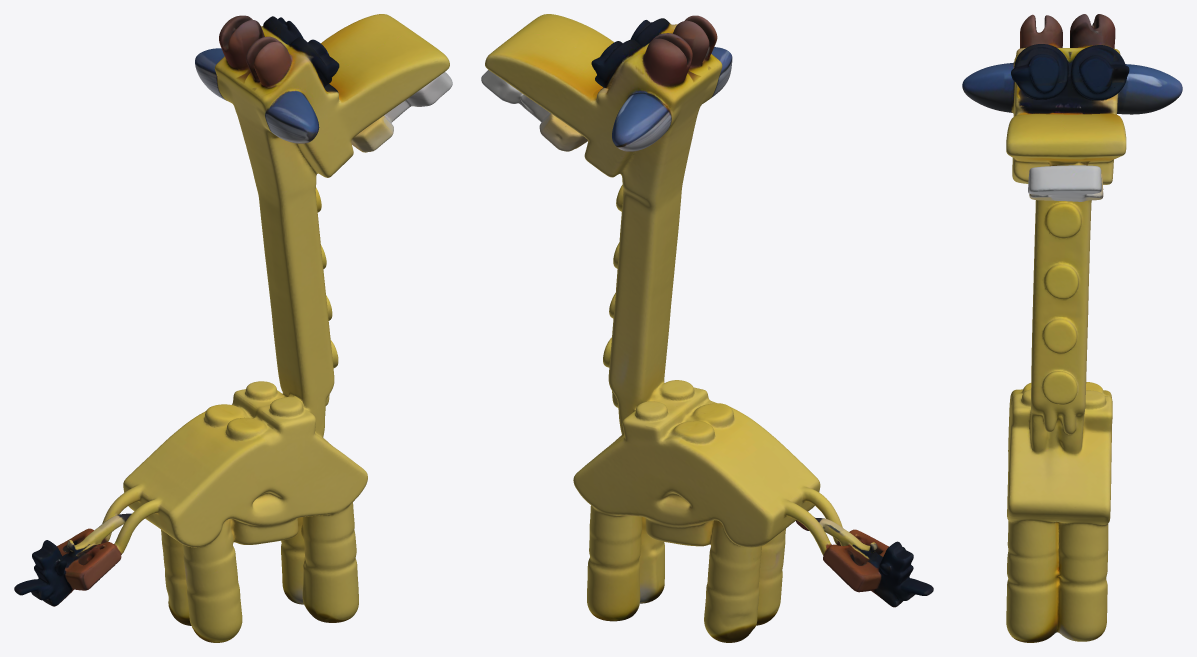
The model's file is image_00_20260506_001615.glb.
3 renders of one model, left to right at view 1: azimuth 30°, elevation 25°; view 2: azimuth 150°, elevation 25°; view 3: azimuth 270°, elevation 25°, orthographic.
Parts seen in each view (by area): view 1: tripo_node_62bf4d5c-1476-46ae-a399-ea7ac24fc5b3; view 2: tripo_node_62bf4d5c-1476-46ae-a399-ea7ac24fc5b3; view 3: tripo_node_62bf4d5c-1476-46ae-a399-ea7ac24fc5b3.
Boxes of the visible parts, box(x1,y1,x2,y2) form: tripo_node_62bf4d5c-1476-46ae-a399-ea7ac24fc5b3: box(14, 14, 452, 642); tripo_node_62bf4d5c-1476-46ae-a399-ea7ac24fc5b3: box(481, 14, 933, 642); tripo_node_62bf4d5c-1476-46ae-a399-ea7ac24fc5b3: box(962, 14, 1182, 642).
Size of the model in its own units: 0.7586 by 1 by 0.3376.
1 material, 1 textured.
